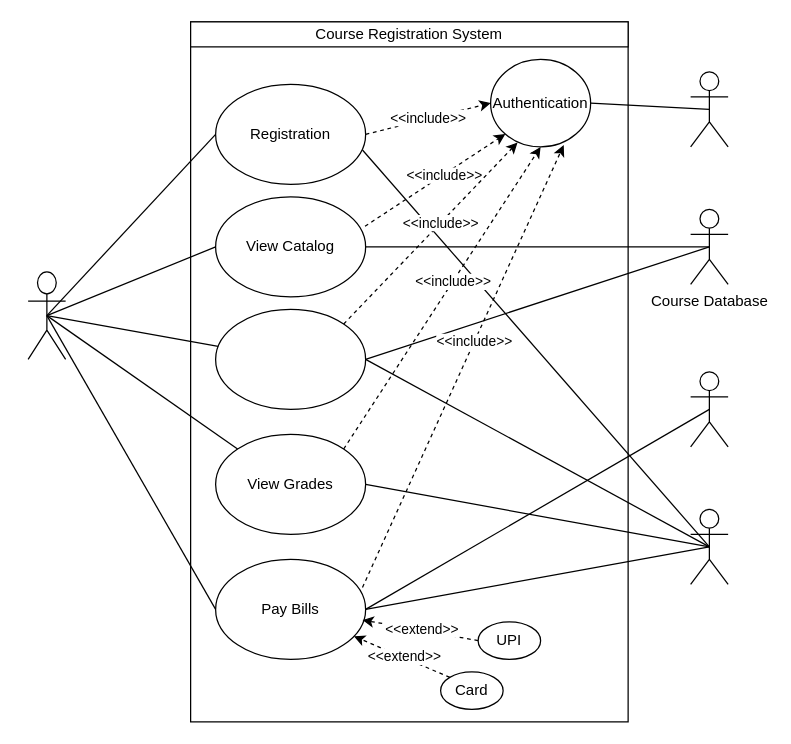
Image size: 791x744. Some labels were removed from this diagram. The centre of each missing label's shape, as x and y in pixels:
Add or Drop Course: point 290,358
Admin: point 708,109
Billing Service: point 708,409
Student: point 46,315
Student Database: point 708,546
